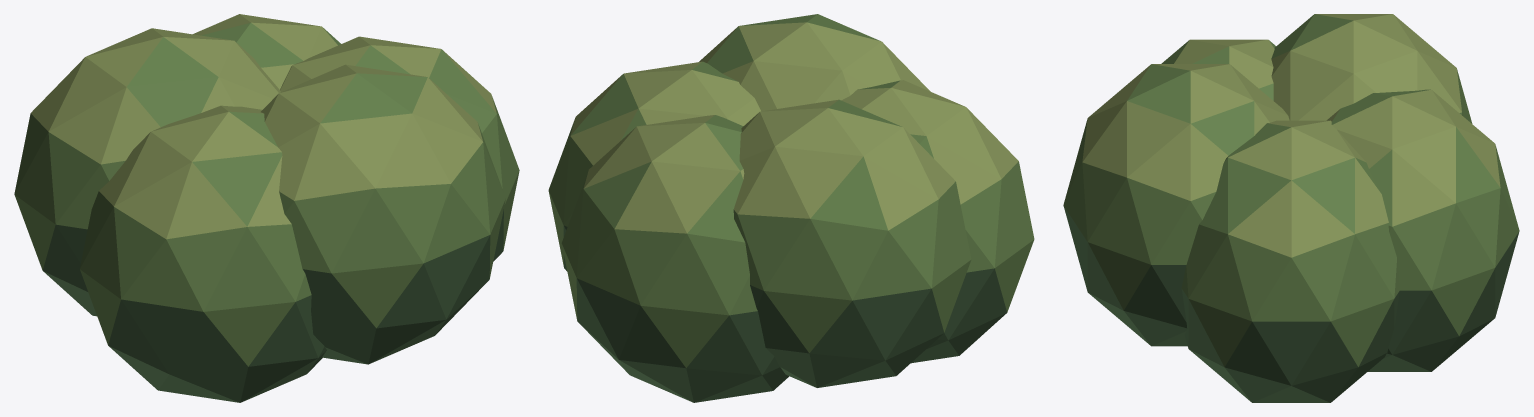
Rendered from SM_QD_Veg_Euonymus.fbx.
3 views of the same model, side by side, from view 1: azimuth 30°, elevation 25°; view 2: azimuth 150°, elevation 25°; view 3: azimuth 270°, elevation 25° (orthographic). The views are drawn at different scales.
Visible parts, largest first — view 1: SM_QD_Veg_Euonymus; view 2: SM_QD_Veg_Euonymus; view 3: SM_QD_Veg_Euonymus.
Part boxes in pixels (left/top/right/bottom): SM_QD_Veg_Euonymus: left=14, top=14, right=519, bottom=402; SM_QD_Veg_Euonymus: left=548, top=14, right=1034, bottom=402; SM_QD_Veg_Euonymus: left=1063, top=14, right=1519, bottom=402.
Size of the model in its own units: 1.34 by 1.29 by 0.92.
Materials: 1 (1 with a texture image).
